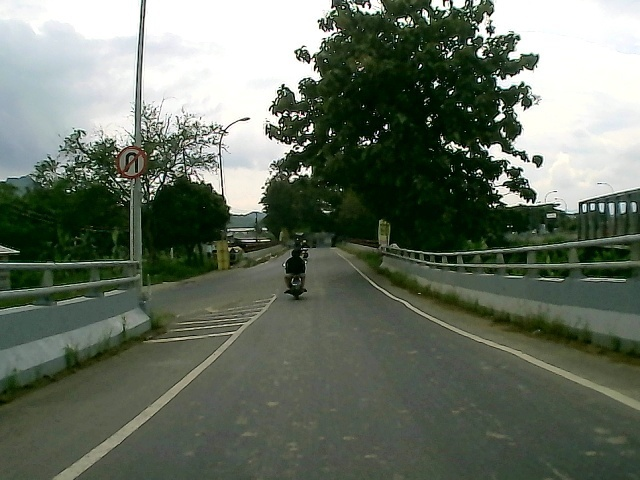Dilarang berbalik arah: (112, 144, 150, 180)
